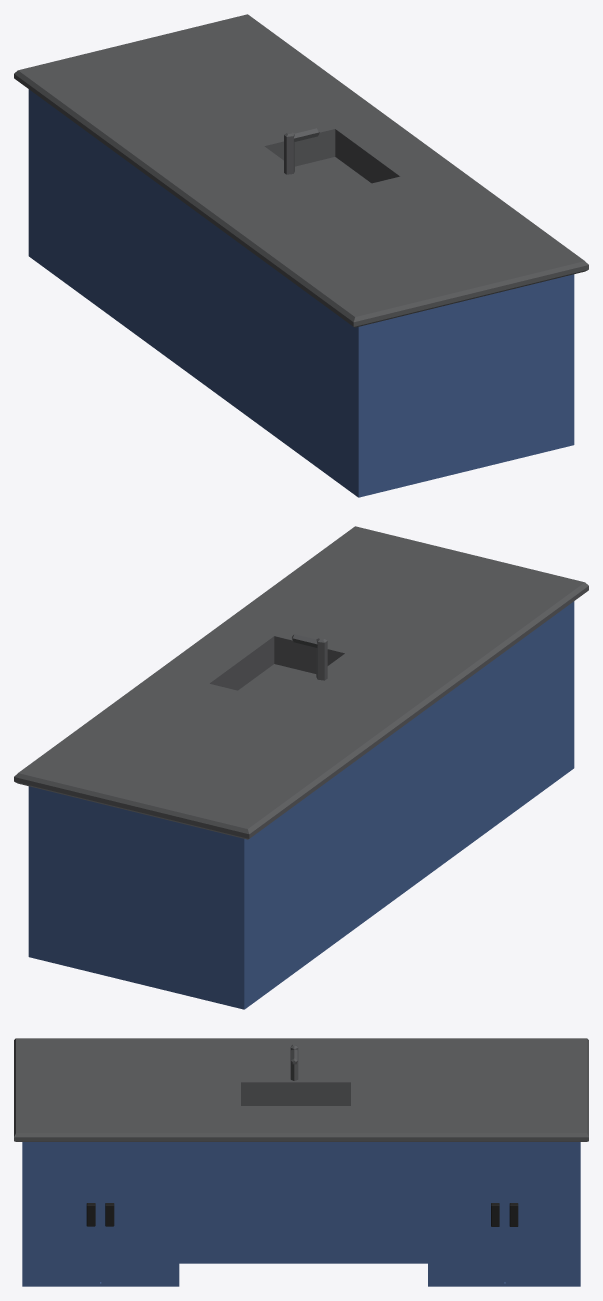
Rendered from Obj_LabSinkTable.fbx.
3 renders of one model, top to bottom at view 1: azimuth 30°, elevation 25°; view 2: azimuth 150°, elevation 25°; view 3: azimuth 270°, elevation 25°, orthographic. The views are drawn at different scales.
Visible parts, largest first — view 1: Obj_LabSinkTable; view 2: Obj_LabSinkTable; view 3: Obj_LabSinkTable.
Part boxes in pixels (box(x1,y1,x2,y2)): Obj_LabSinkTable: box(14, 14, 588, 497); Obj_LabSinkTable: box(14, 526, 588, 1009); Obj_LabSinkTable: box(14, 1038, 588, 1286).
Size of the model in its own units: 2 by 1.82 by 5.
